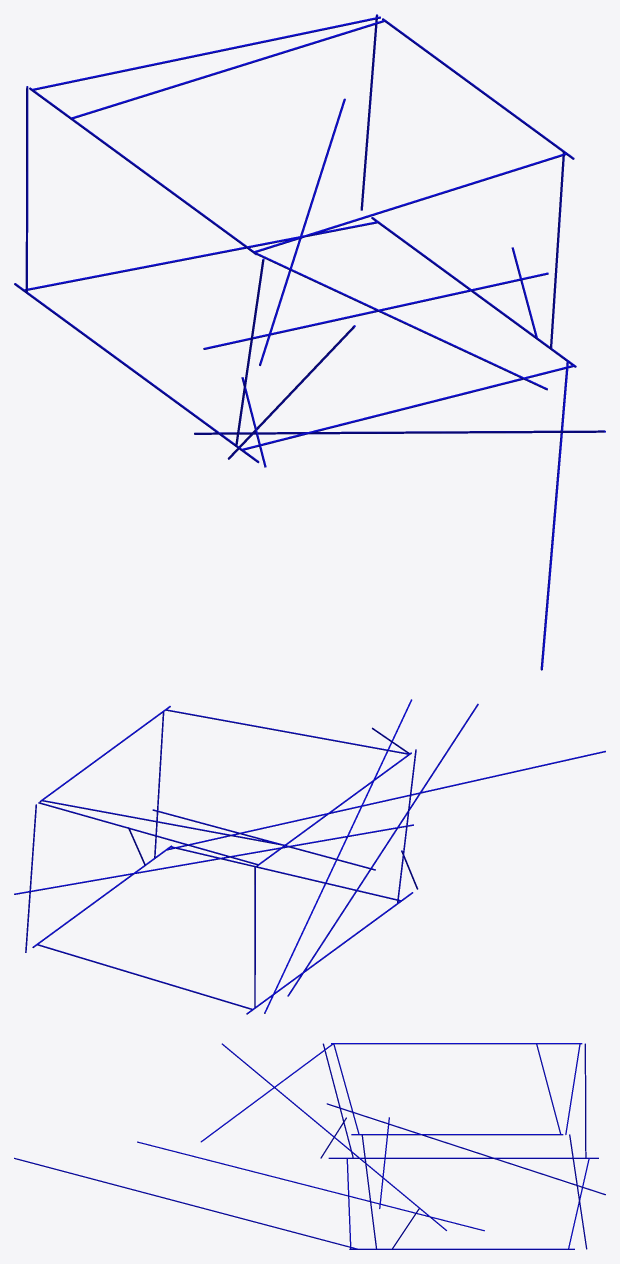
The model's file is corrected_3d_strokes.glb.
3 views of the same model, one above another, from view 1: azimuth 30°, elevation 25°; view 2: azimuth 150°, elevation 25°; view 3: azimuth 270°, elevation 25° (orthographic). The views are drawn at different scales.
Visible parts, largest first — view 1: world; view 2: world; view 3: world.
Part boxes in pixels (box(x1,y1,x2,y2)): world: box(14, 14, 605, 670); world: box(14, 699, 605, 1014); world: box(14, 1043, 605, 1249).
Bounding box in the file's own units: 6.51 × 5.56 × 17.82.
